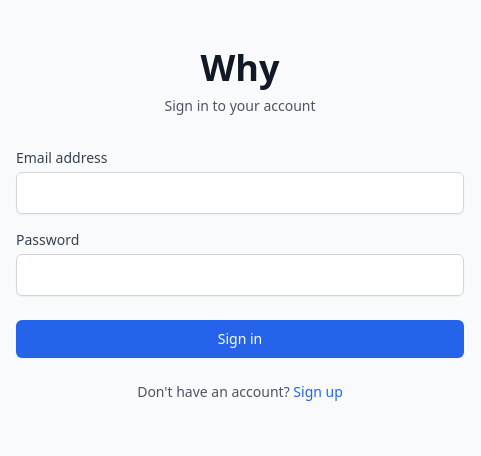
Scenario: LoginPage › should display generic error when error has no message
In the field labelled "Email address": point(240, 193) [16,172,464,214], type "test@example.com"
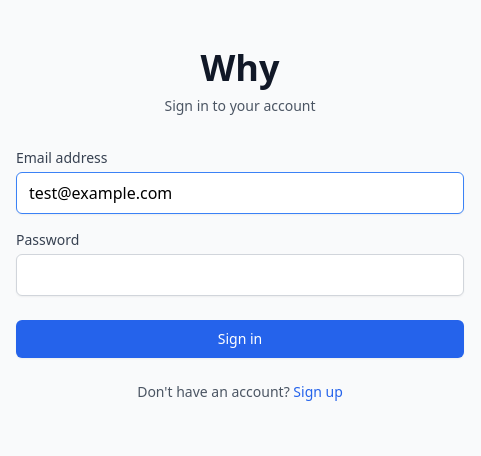
In the password field labelled "Password": point(240, 275) [16,254,464,296], type "wrongpassword"
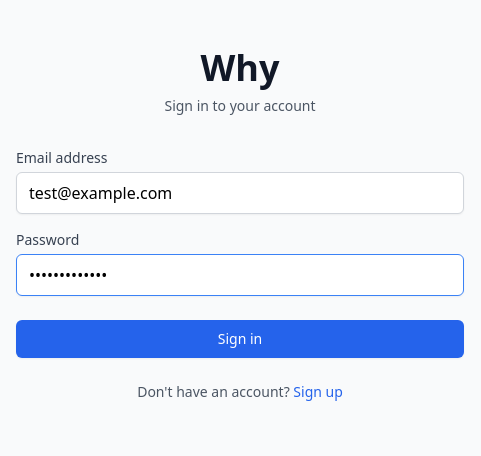
Click the button "Sign in": point(240, 339) [16,320,464,358]
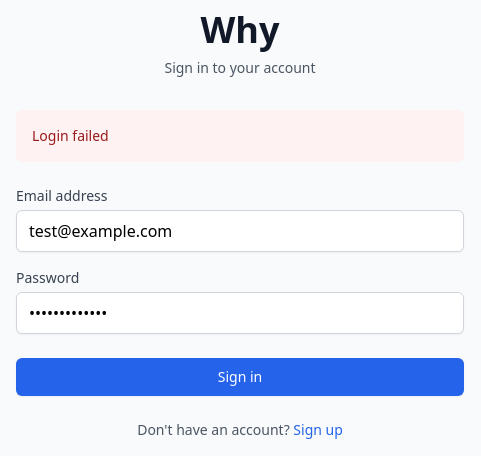
Result: the text "Login failed" is shown at [32,126,109,145]
